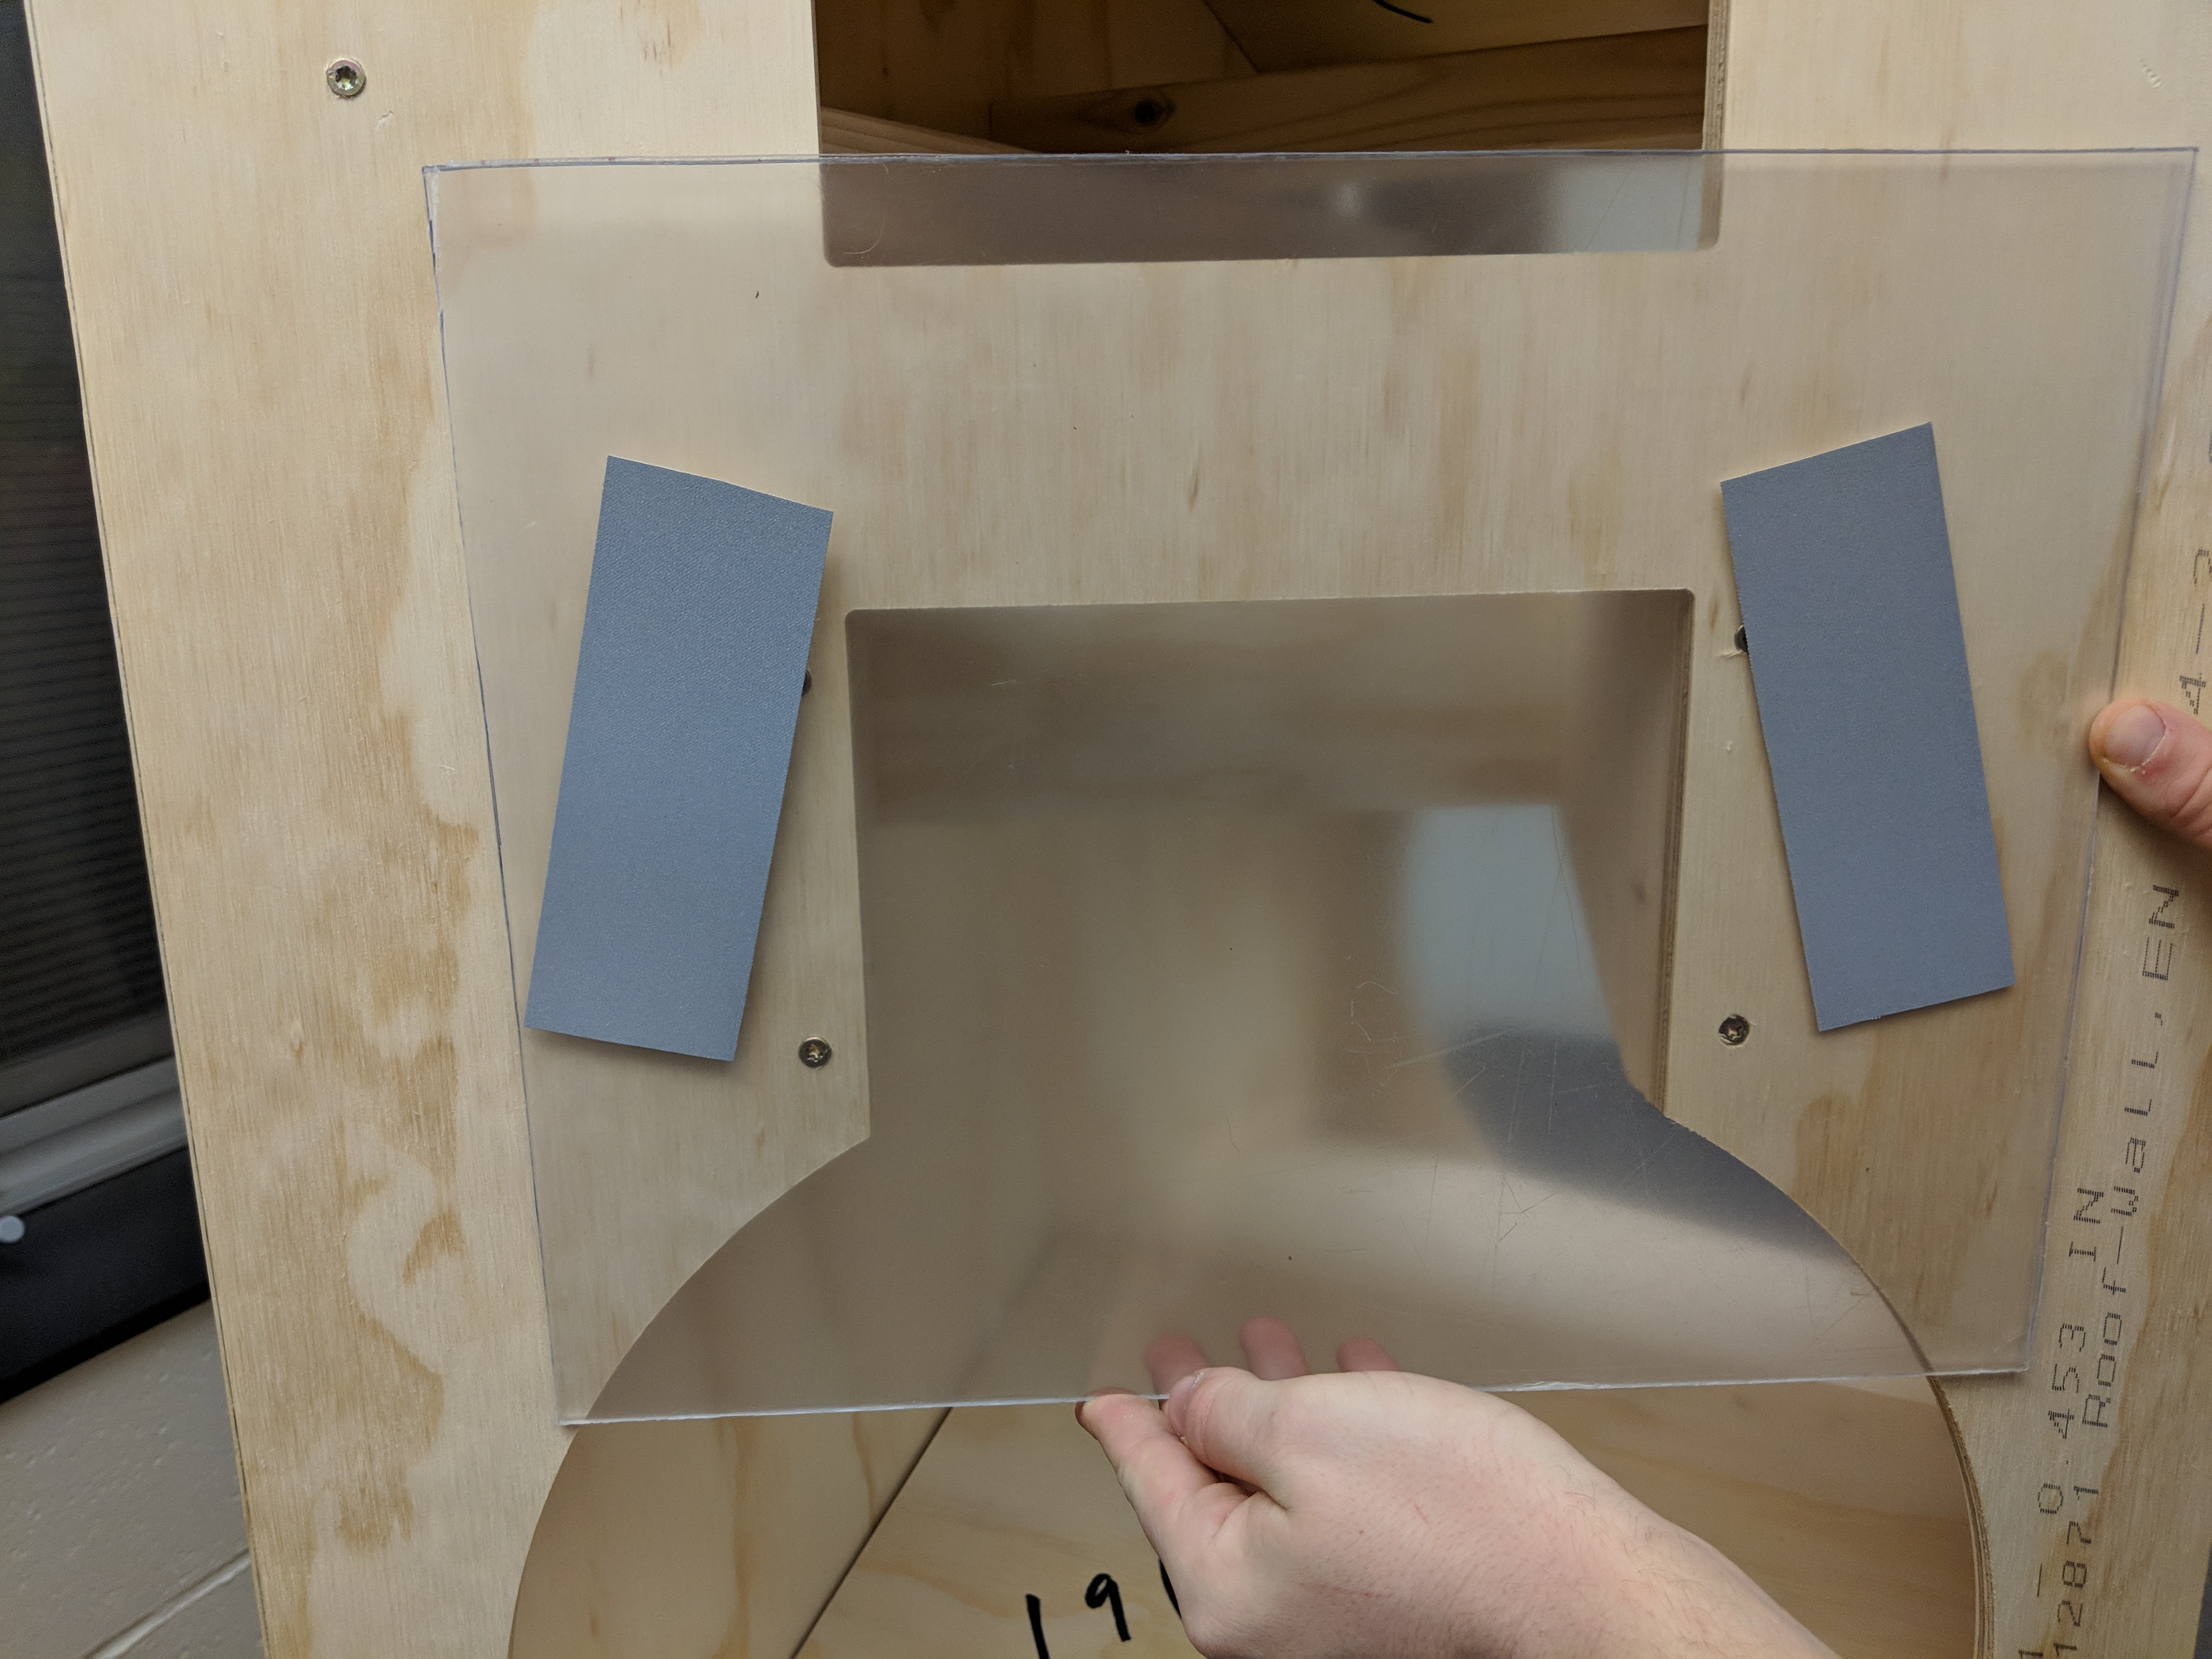vision_target: (510, 410, 2027, 1080)
